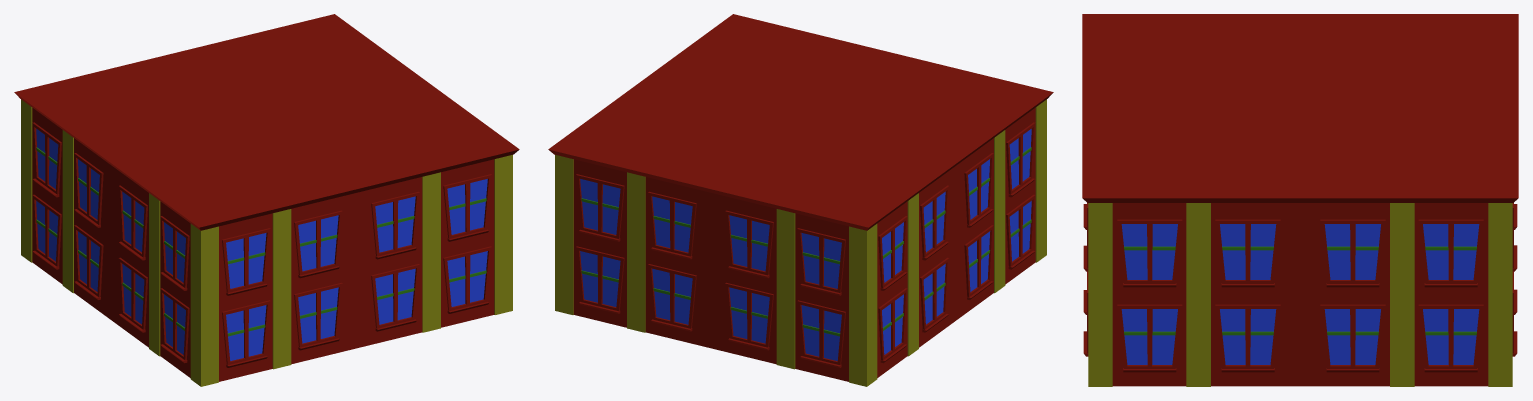
Rendered from SM_Base_Building_6m_01.fbx.
3 renders of one model, left to right at view 1: azimuth 30°, elevation 25°; view 2: azimuth 150°, elevation 25°; view 3: azimuth 270°, elevation 25°, orthographic. The views are drawn at different scales.
Parts seen in each view (by area): view 1: Base_6m_02; view 2: Base_6m_02; view 3: Base_6m_02.
Boxes of the visible parts, <box> form: Base_6m_02: <box>14,14,519,386</box>; Base_6m_02: <box>548,14,1053,386</box>; Base_6m_02: <box>1082,14,1518,386</box>.
Size of the model in its own units: 12.41 by 6 by 12.41.
